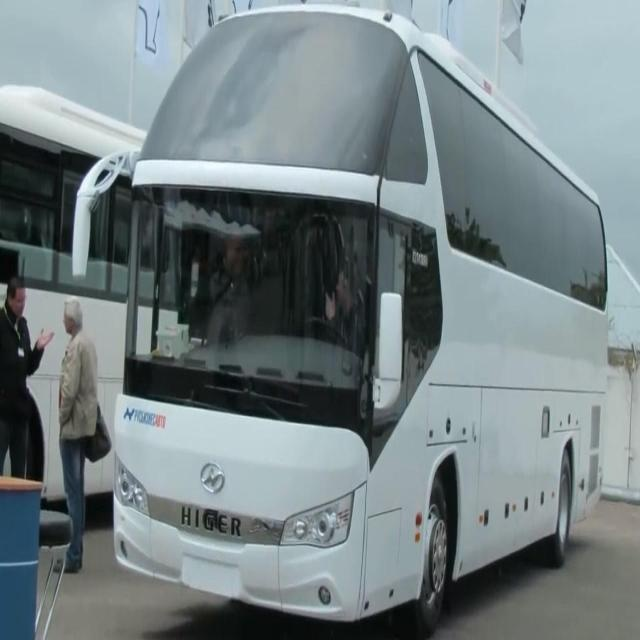Bus: (66, 1, 624, 640), (0, 72, 156, 530)
